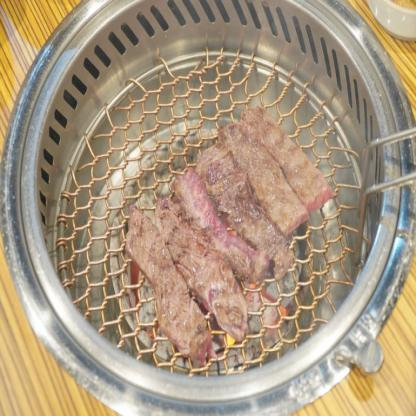Carne: (151, 195, 248, 335), (125, 202, 210, 358), (198, 140, 291, 270), (243, 98, 330, 211)
